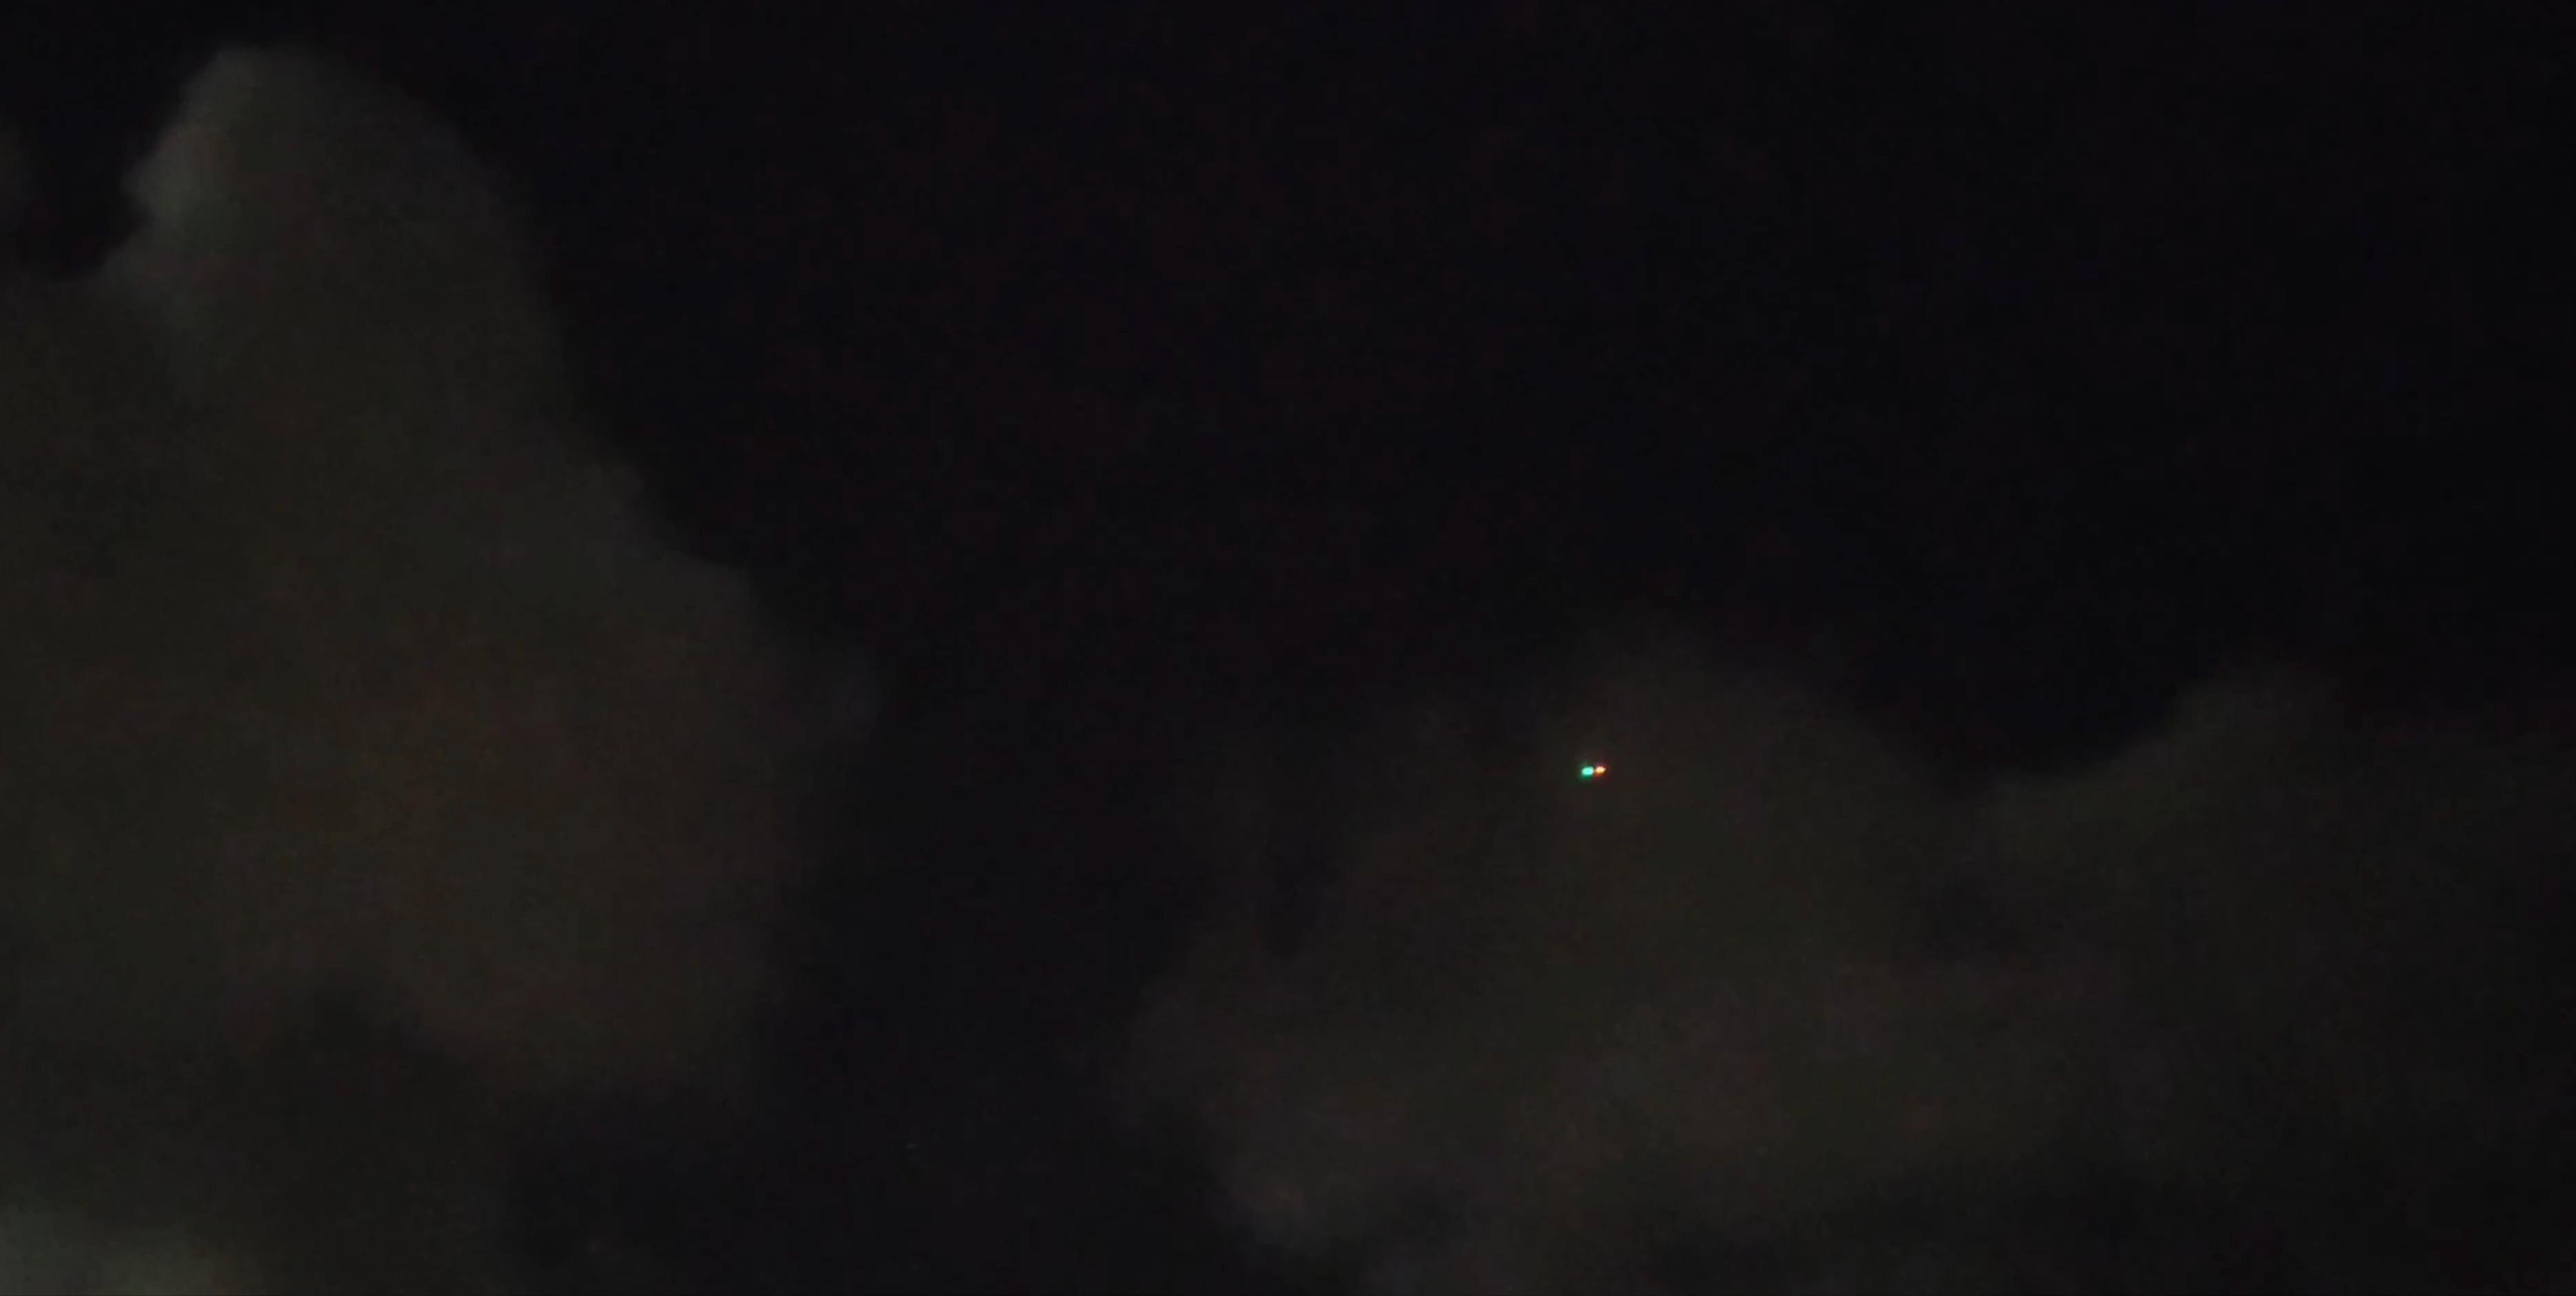Plane: (1573, 744, 1621, 792)
